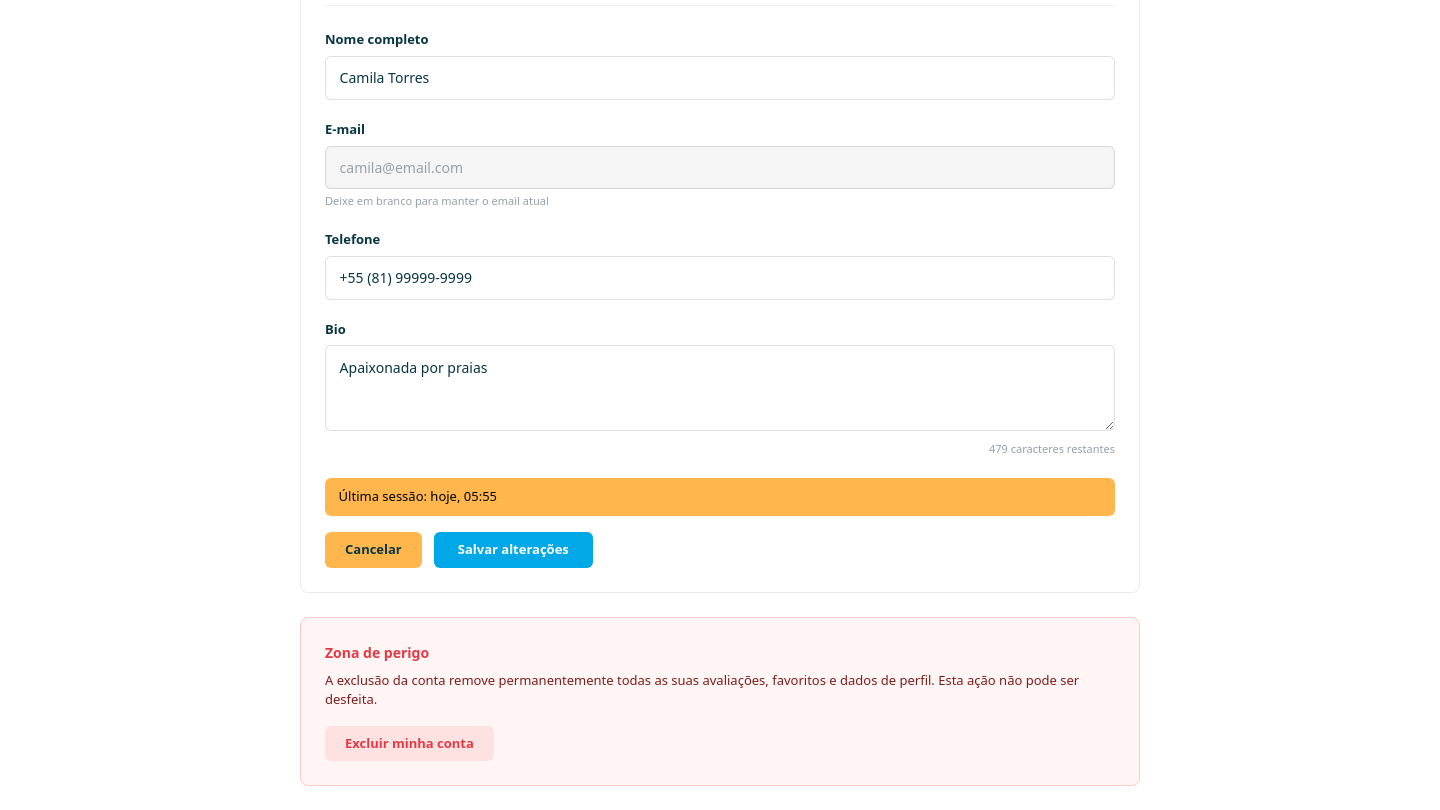
Test case: AccountComponent › should close modal when cancel is clicked
(page scrolled)
Click the button with test id "delete-account-btn" at (409, 744), box [325, 726, 494, 761]
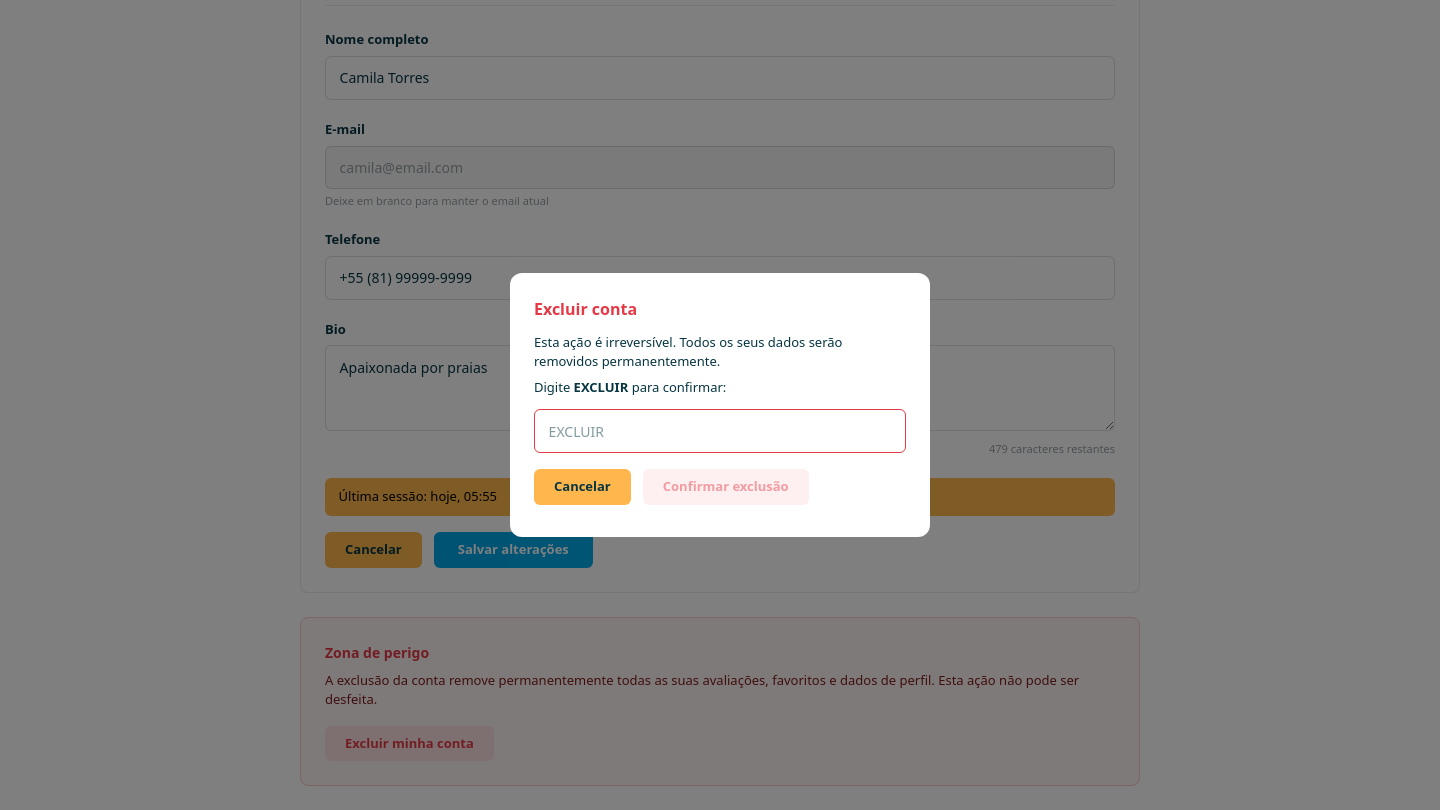
expect the element with test id "delete-modal" is shown: met
Click the button with test id "modal-cancel-btn" at (582, 487), box [534, 469, 631, 505]
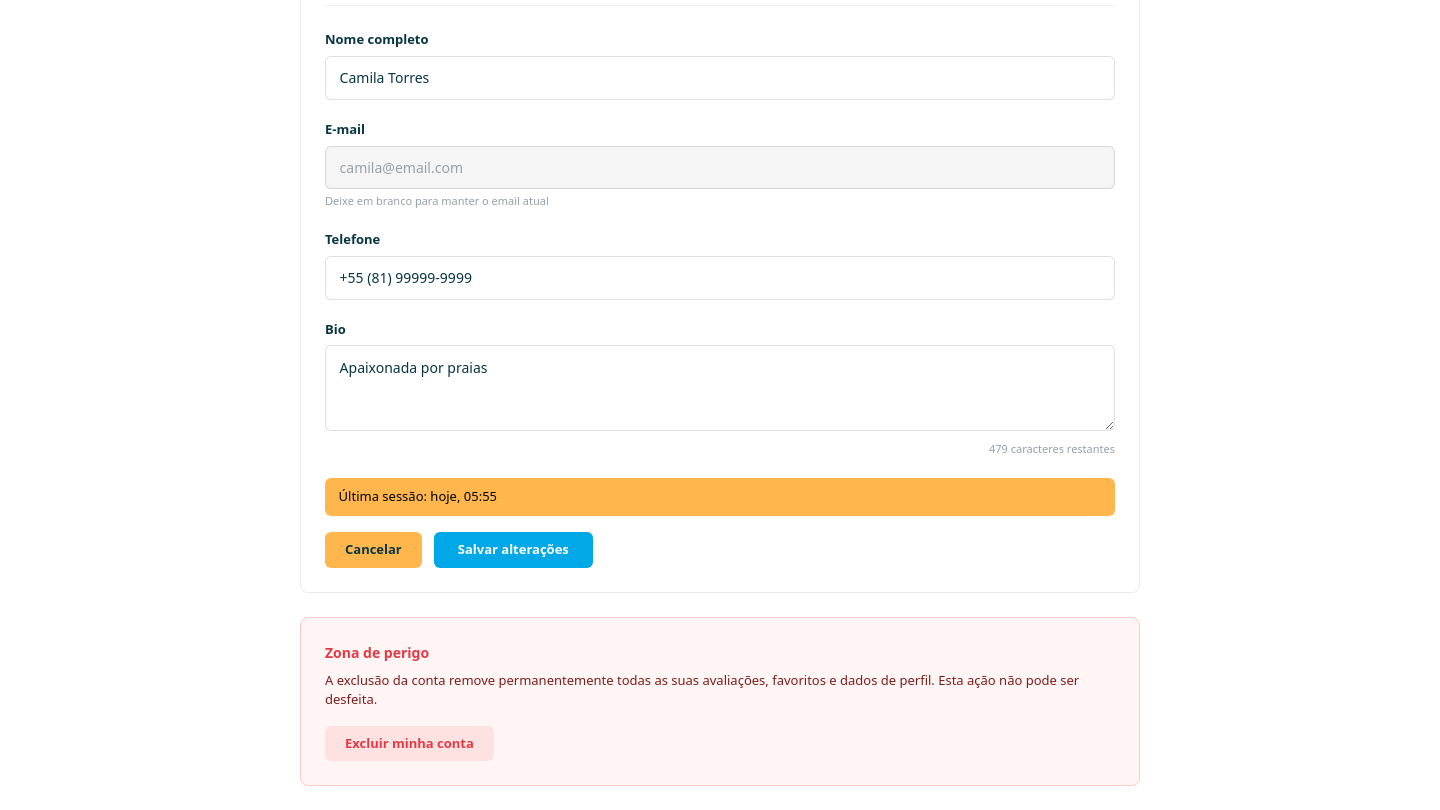
expect the element with test id "delete-modal" is gone: met
